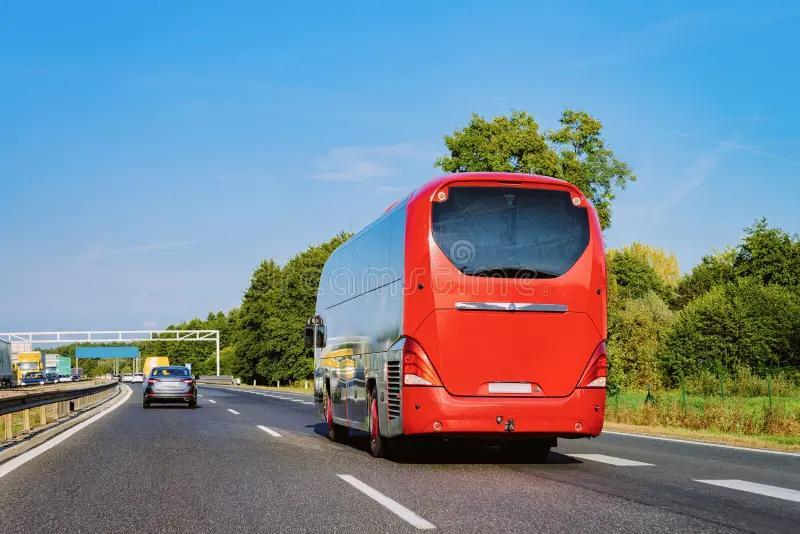Bus: (311, 173, 609, 463)
